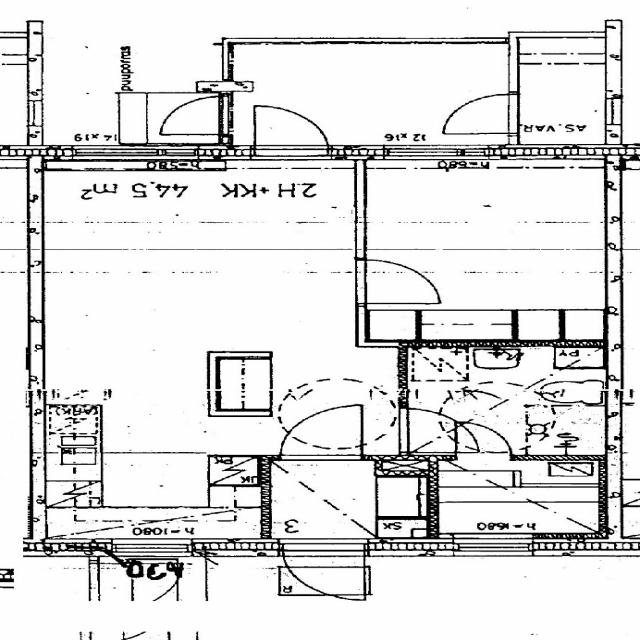door: (282, 539, 364, 605), (280, 406, 363, 460), (255, 101, 328, 160), (355, 260, 438, 303), (398, 409, 480, 452), (442, 94, 518, 133), (456, 422, 510, 461)
